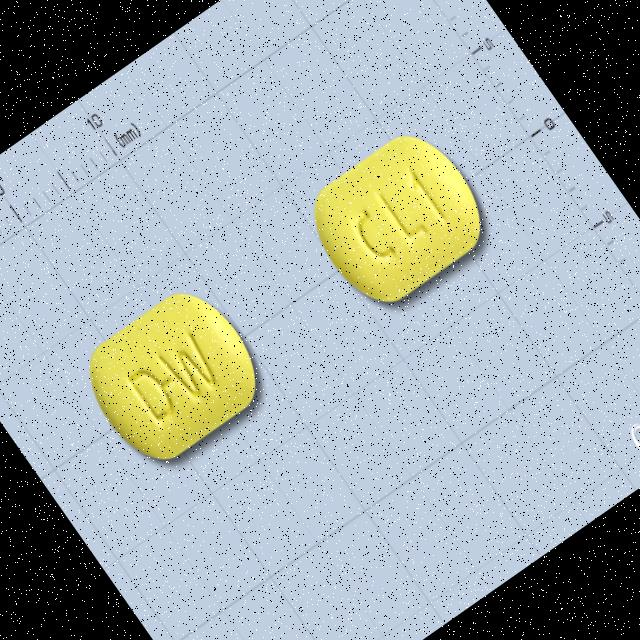Clearmycin: (292, 116, 501, 320), (70, 278, 276, 478)
